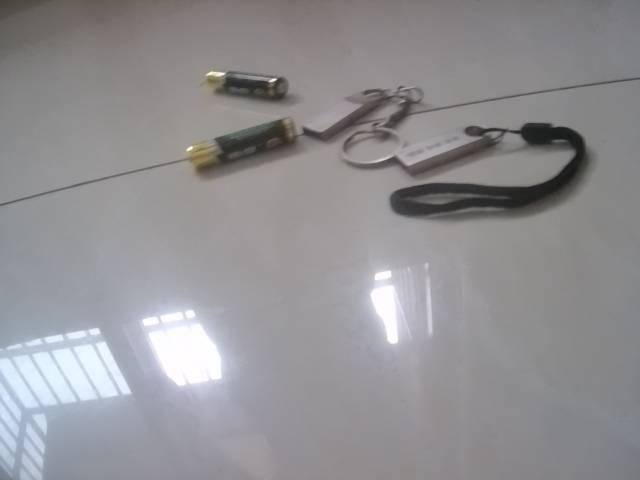U-disk: (387, 123, 590, 224), (301, 82, 425, 168)
battery: (185, 115, 302, 174), (201, 66, 290, 104)
